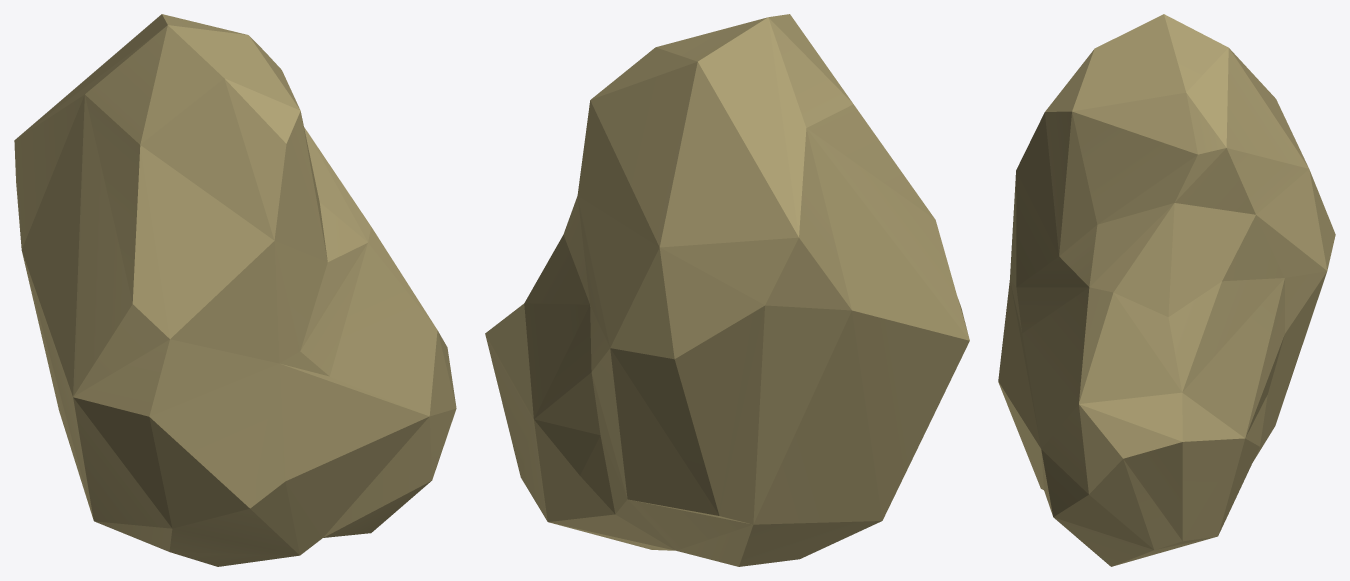
The model's file is SM_small_rock_57.fbx.
3 views of the same model, side by side, from view 1: azimuth 30°, elevation 25°; view 2: azimuth 150°, elevation 25°; view 3: azimuth 270°, elevation 25° (orthographic). The views are drawn at different scales.
Visible parts, largest first — view 1: small_rock_57; view 2: small_rock_57; view 3: small_rock_57.
Boxes of the visible parts, <box> form: small_rock_57: <box>14,14,456,566</box>; small_rock_57: <box>485,14,969,566</box>; small_rock_57: <box>998,14,1335,566</box>.
Size of the model in its own units: 120 by 152 by 97.82.
